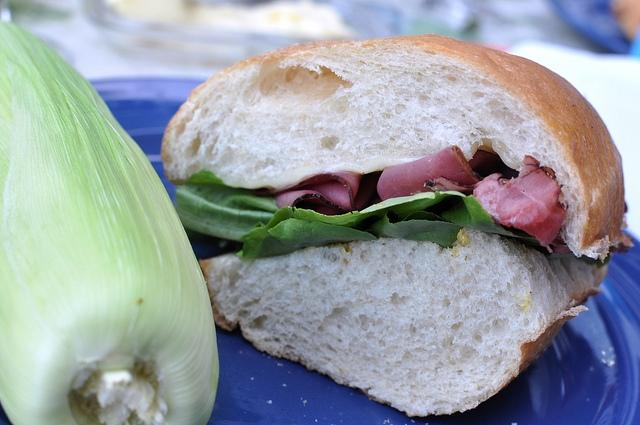corn: (0, 18, 219, 425)
lettuce: (252, 190, 522, 238), (172, 168, 278, 241), (369, 208, 464, 248)
